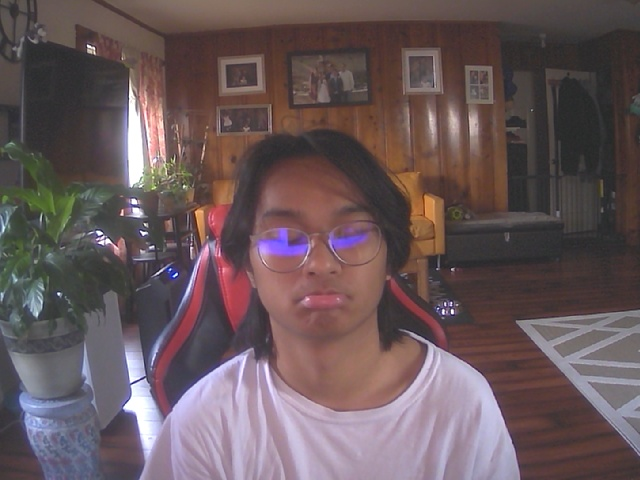sad: (241, 139, 400, 341)
